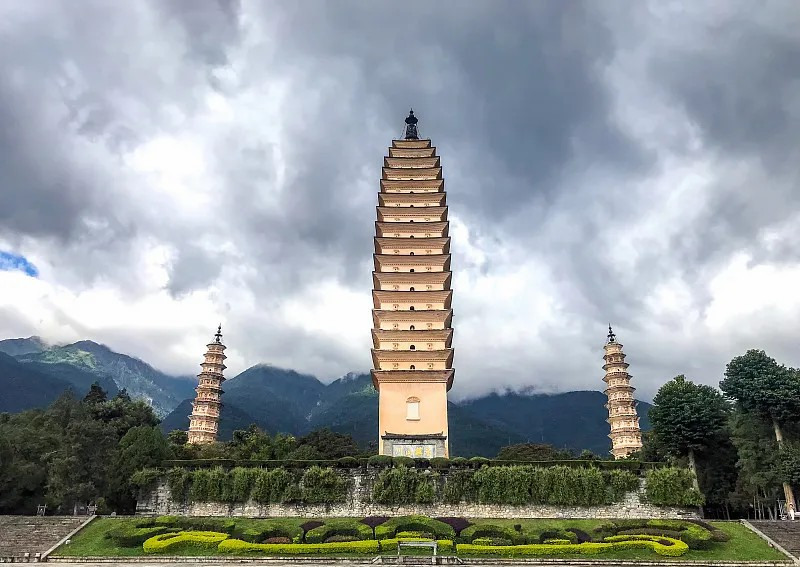ThreePagoda: (370, 108, 455, 458)
